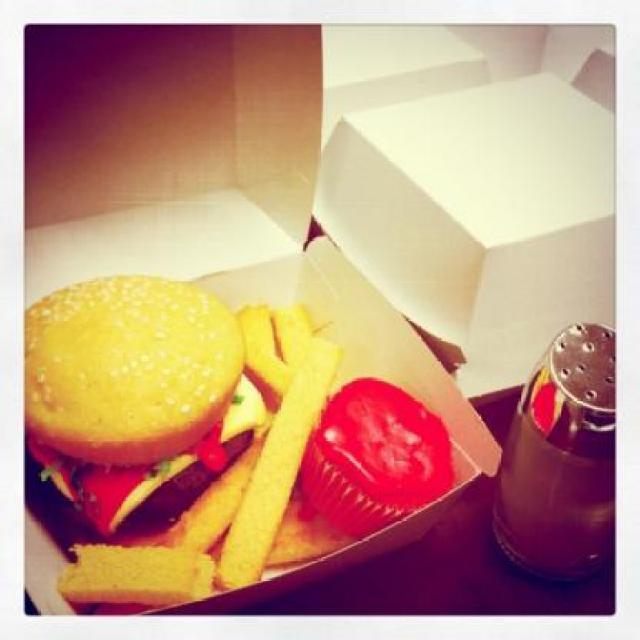French fries: (216, 337, 342, 592), (157, 416, 277, 538), (51, 536, 220, 598), (238, 343, 291, 400), (286, 292, 306, 366), (244, 303, 273, 348)
